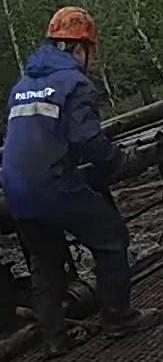helmet: (46, 6, 99, 50)
vest: (1, 44, 100, 221)
